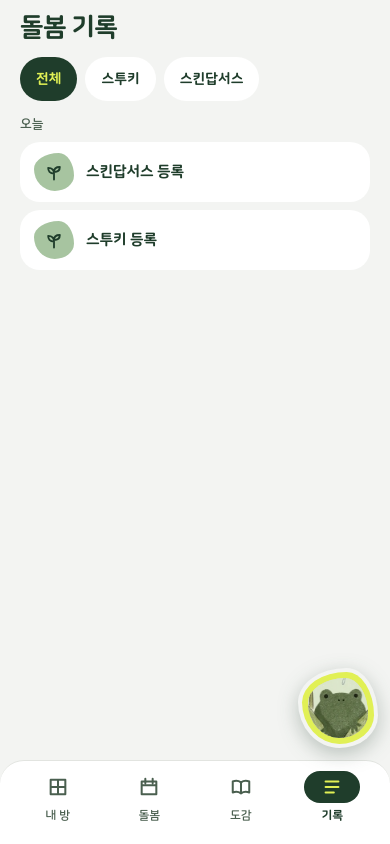
Test: frog chat › answers when to water from the schedule
Click the button named "개구리에게 도움 요청" at (338, 708), box x1=302 y1=672 x2=374 y2=744
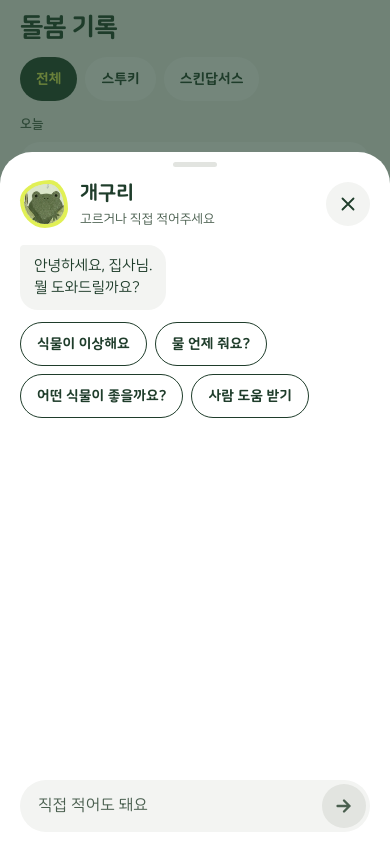
Click the button "물 언제 줘요?" at (211, 344), box x1=155 y1=322 x2=267 y2=366
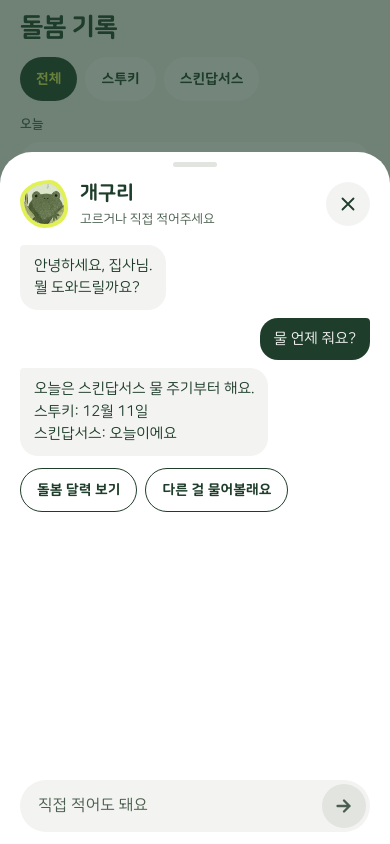
Expected: the text "스킨답서스: 오늘이에요" is shown, x1=34 y1=380 x2=254 y2=442
Click the button "돌봄 달력 보기" at (79, 490), box x1=20 y1=468 x2=138 y2=512
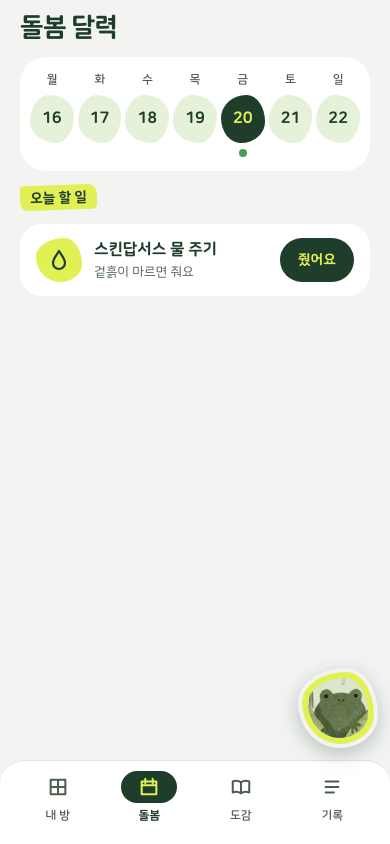
Expected: the heading "돌봄 달력" is shown, x1=20 y1=13 x2=117 y2=42
